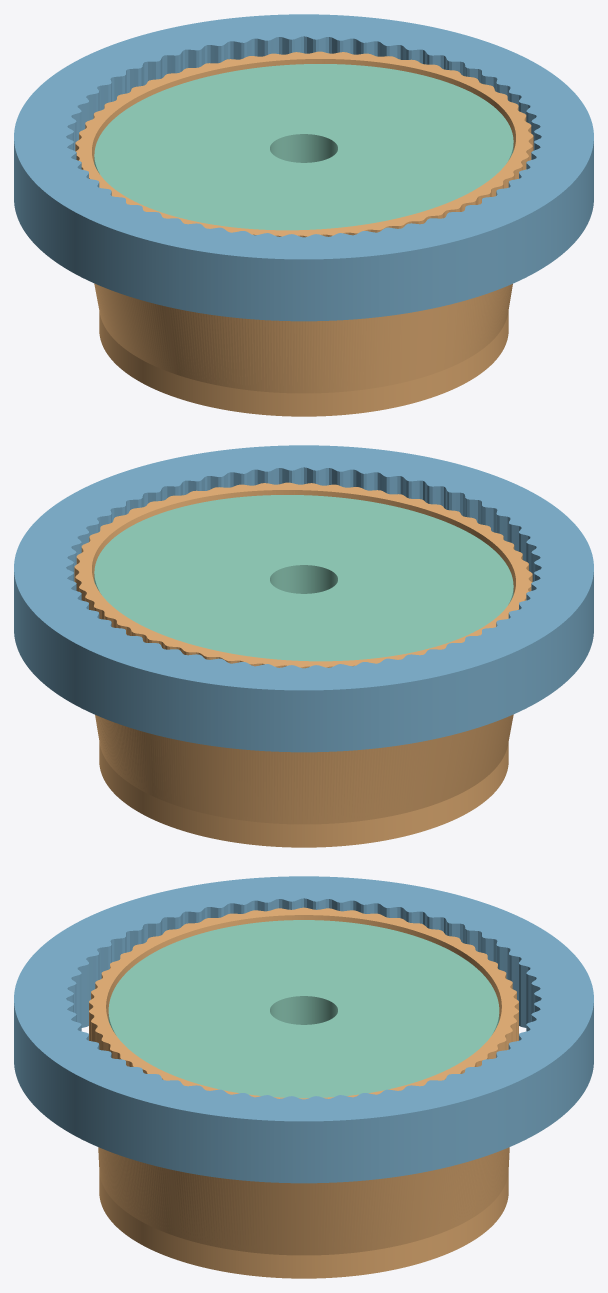
The model's file is harmonic_drive.glb.
3 views of the same model, one above another, from view 1: azimuth 30°, elevation 25°; view 2: azimuth 150°, elevation 25°; view 3: azimuth 270°, elevation 25° (orthographic).
Visible parts, largest first — view 1: Circular spline, Wave generator, Flexspline; view 2: Circular spline, Wave generator, Flexspline; view 3: Circular spline, Wave generator, Flexspline.
Part boxes in pixels (left/top/right/bottom): Circular spline: left=14, top=14, right=593, bottom=321; Wave generator: left=94, top=64, right=513, bottom=230; Flexspline: left=75, top=51, right=533, bottom=416; Circular spline: left=14, top=445, right=593, bottom=752; Wave generator: left=94, top=495, right=513, bottom=661; Flexspline: left=74, top=482, right=532, bottom=847; Circular spline: left=14, top=876, right=593, bottom=1183; Wave generator: left=108, top=920, right=499, bottom=1098; Flexspline: left=89, top=907, right=518, bottom=1278.
Bounding box in the file's own units: 0.068 × 0.025 × 0.068.
